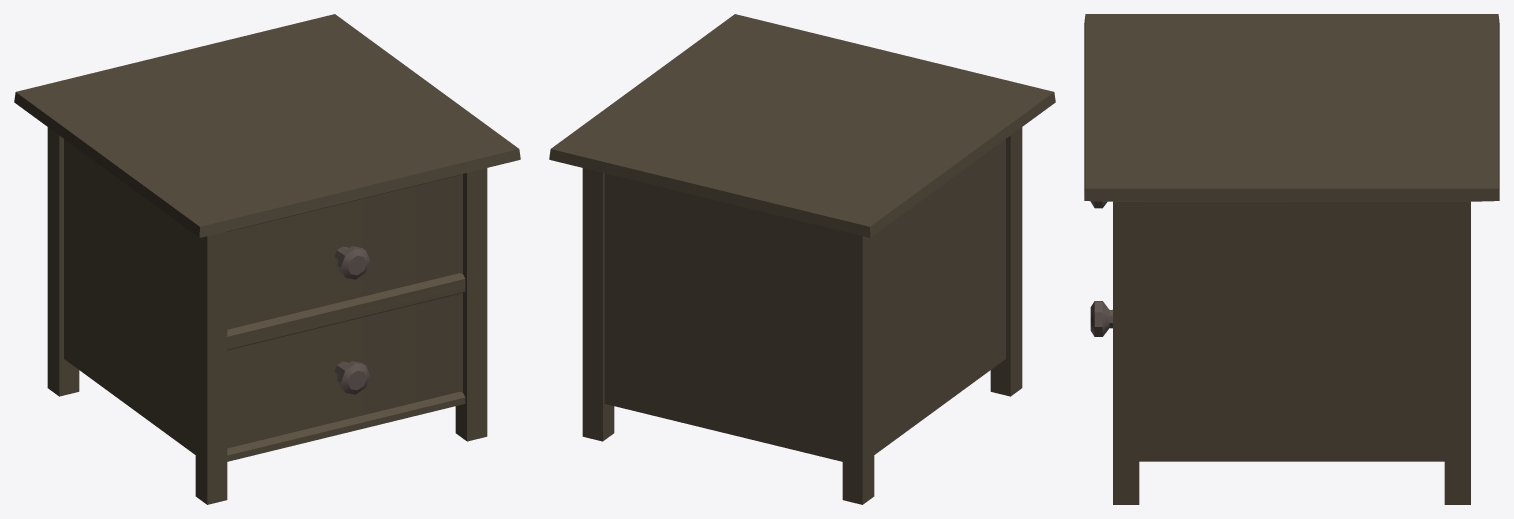
The model's file is Night Stand 3.glb.
3 renders of one model, left to right at view 1: azimuth 30°, elevation 25°; view 2: azimuth 150°, elevation 25°; view 3: azimuth 270°, elevation 25°, orthographic. The views are drawn at different scales.
Visible parts, largest first — view 1: NightStand_3_Cube.006; view 2: NightStand_3_Cube.006; view 3: NightStand_3_Cube.006.
Part boxes in pixels (x1,y1,x2,y2): NightStand_3_Cube.006: [14, 14, 520, 504]; NightStand_3_Cube.006: [549, 14, 1055, 504]; NightStand_3_Cube.006: [1084, 14, 1499, 504].
Bounding box in the file's own units: 0.9522 × 0.8271 × 0.9522.
